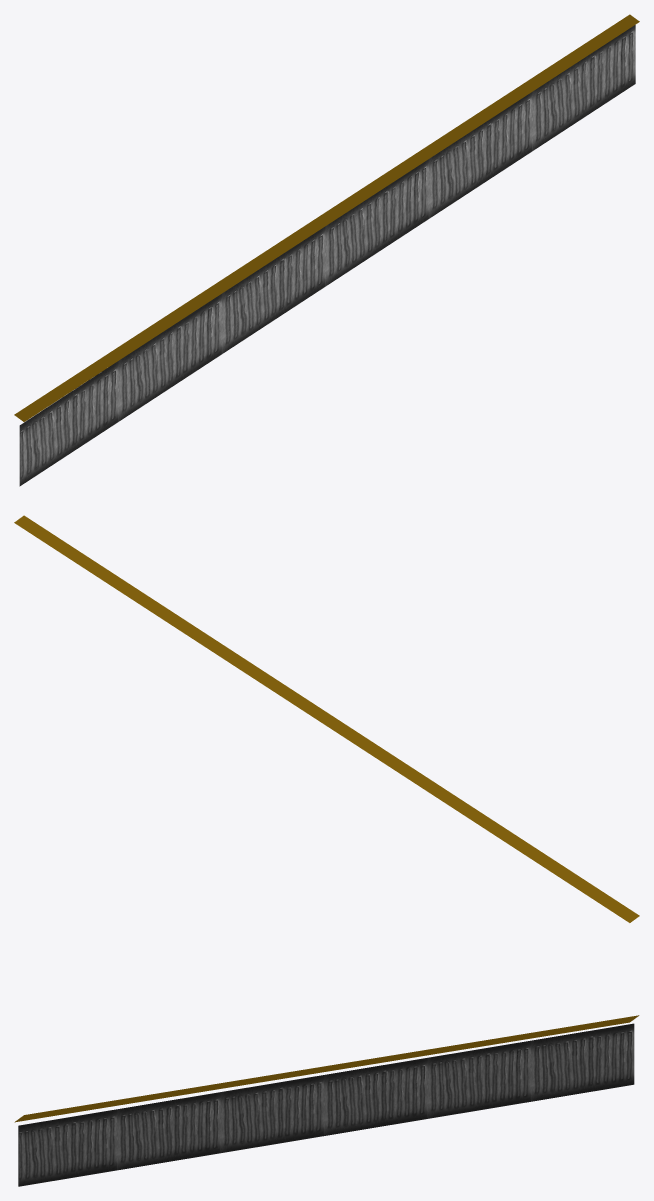
File: Handlauf_2401.glb
3 renders of one model, top to bottom at view 1: azimuth 30°, elevation 25°; view 2: azimuth 150°, elevation 25°; view 3: azimuth 330°, elevation 25°, orthographic.
Parts seen in each view (by area): view 1: pPlaneShape172, pPlaneShape173; view 2: pPlaneShape173; view 3: pPlaneShape172, pPlaneShape173.
Boxes of the visible parts, bbox=[...] form: pPlaneShape172: bbox=[19, 25, 635, 486]; pPlaneShape173: bbox=[14, 14, 639, 421]; pPlaneShape173: bbox=[14, 515, 639, 922]; pPlaneShape172: bbox=[18, 1023, 634, 1186]; pPlaneShape173: bbox=[14, 1015, 639, 1122].
Bounding box in the file's own units: 1 × 0.493 × 0.0284.
Materials: 2 (1 with a texture image).
